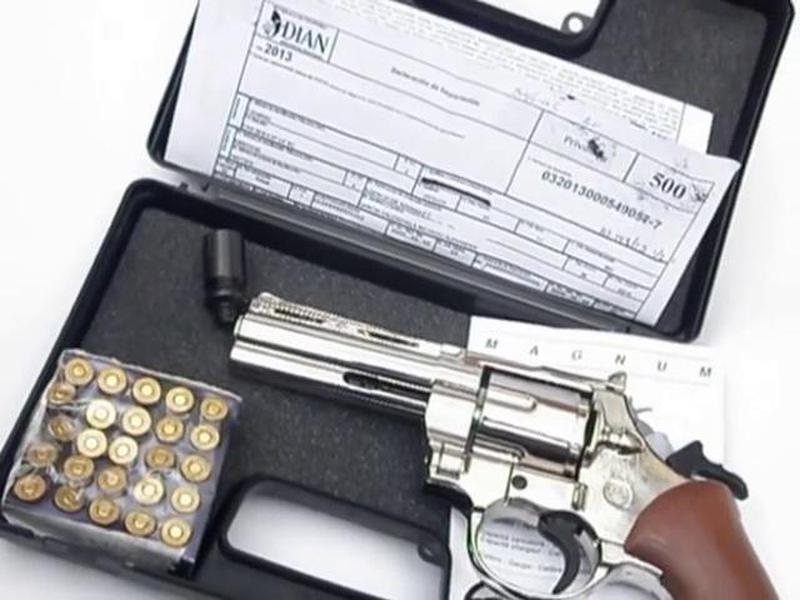Revolver: (219, 266, 744, 582)
